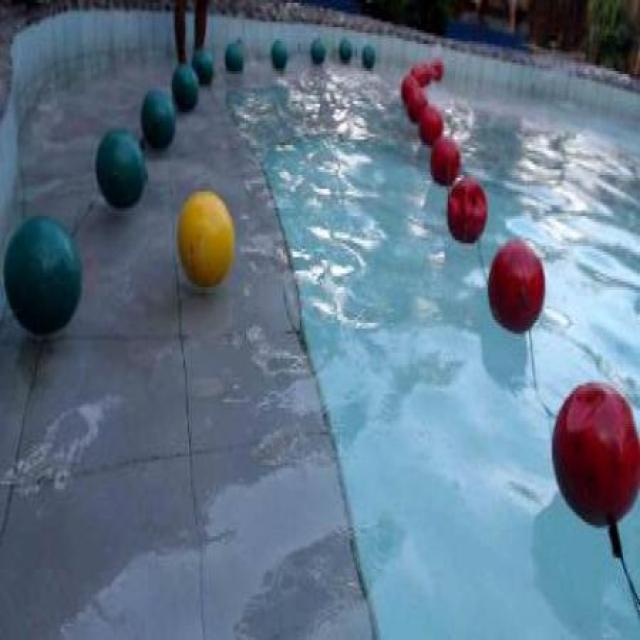buoy: (550, 380, 638, 528), (4, 214, 83, 338), (486, 238, 545, 336), (176, 189, 234, 287), (94, 126, 146, 208), (444, 176, 488, 245), (139, 86, 175, 149), (428, 131, 461, 186), (172, 62, 198, 112), (417, 101, 442, 145), (190, 48, 212, 83), (406, 86, 427, 122), (224, 40, 244, 70), (270, 36, 288, 68), (309, 38, 325, 66), (360, 42, 375, 68), (338, 36, 352, 62)
